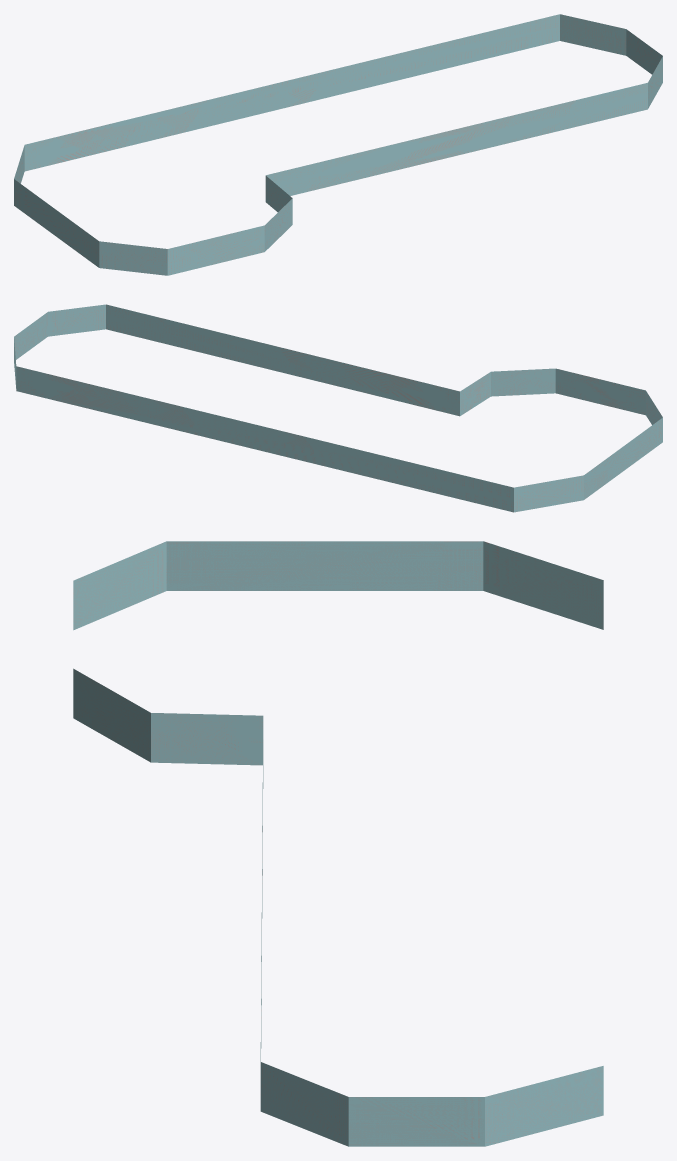
File: original-8.obj
3 views of the same model, one above another, from view 1: azimuth 30°, elevation 25°; view 2: azimuth 150°, elevation 25°; view 3: azimuth 270°, elevation 25° (orthographic). The views are drawn at different scales.
Visible parts, largest first — view 1: mesh1/mesh1-geometry/material_2#mesh1-geometry; view 2: mesh1/mesh1-geometry/material_2#mesh1-geometry; view 3: mesh1/mesh1-geometry/material_2#mesh1-geometry.
Boxes of the visible parts, x1=… form: mesh1/mesh1-geometry/material_2#mesh1-geometry: x1=14, y1=14, x2=662, y2=275; mesh1/mesh1-geometry/material_2#mesh1-geometry: x1=14, y1=304, x2=662, y2=512; mesh1/mesh1-geometry/material_2#mesh1-geometry: x1=73, y1=541, x2=603, y2=1146.
Bounding box in the file's own units: 1.34 × 0.056 × 0.5399.
